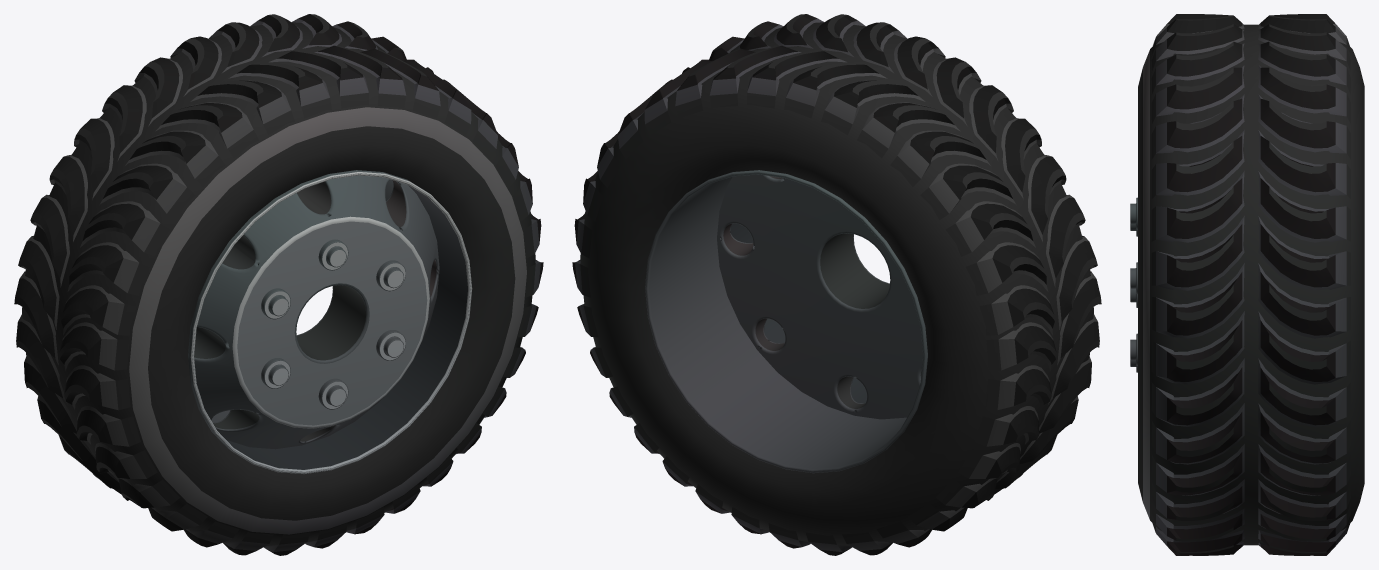
Rendered from wheel_12.fbx.
3 views of the same model, side by side, from view 1: azimuth 30°, elevation 25°; view 2: azimuth 150°, elevation 25°; view 3: azimuth 270°, elevation 25° (orthographic). The views are drawn at different scales.
Parts seen in each view (by area): view 1: wheel_12; view 2: wheel_12; view 3: wheel_12.
Part boxes in pixels (bbox=[...]): wheel_12: bbox=[14, 14, 543, 555]; wheel_12: bbox=[572, 14, 1101, 555]; wheel_12: bbox=[1130, 14, 1364, 555].
Size of the model in its own units: 101 by 101 by 43.78.
